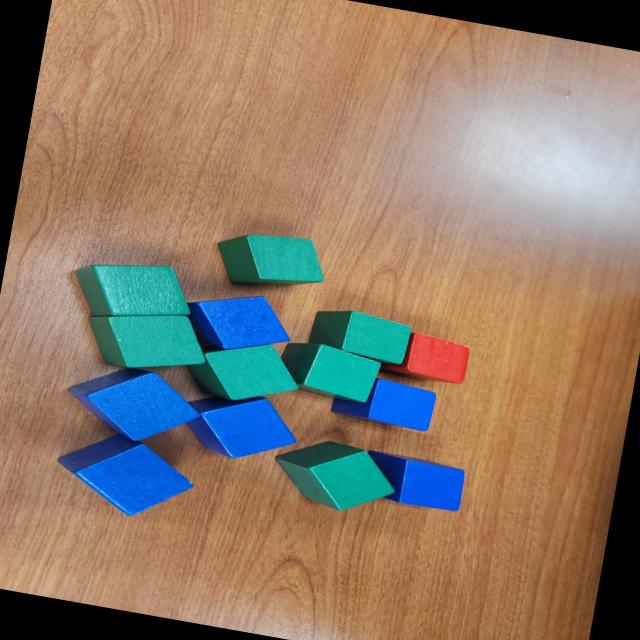blue: (48, 424, 200, 526), (57, 354, 205, 454), (178, 383, 304, 470), (178, 284, 296, 364), (354, 447, 467, 515), (327, 370, 438, 432)
green: (266, 430, 403, 523), (79, 298, 212, 382), (66, 250, 198, 331), (178, 328, 305, 412), (209, 222, 331, 300), (276, 336, 384, 406), (307, 303, 416, 367)
red: (384, 328, 474, 387)
